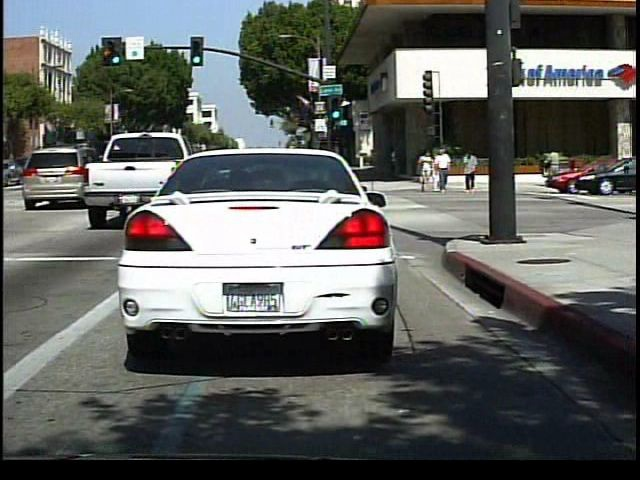person: (434, 143, 455, 193), (461, 146, 482, 194), (417, 146, 437, 195), (543, 144, 564, 188)
